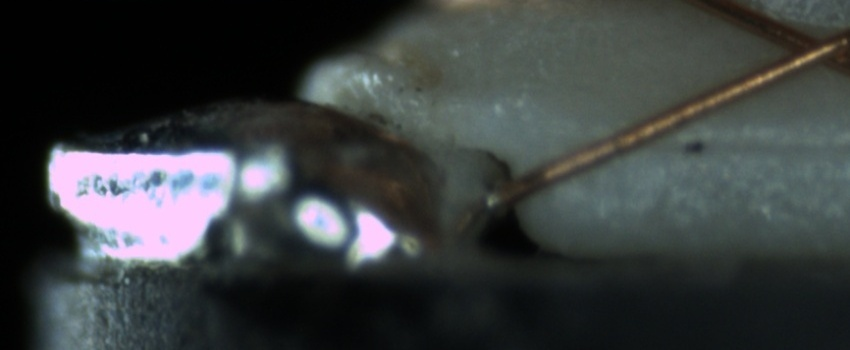CL: (757, 13, 848, 81)
DL: (618, 109, 844, 179)
